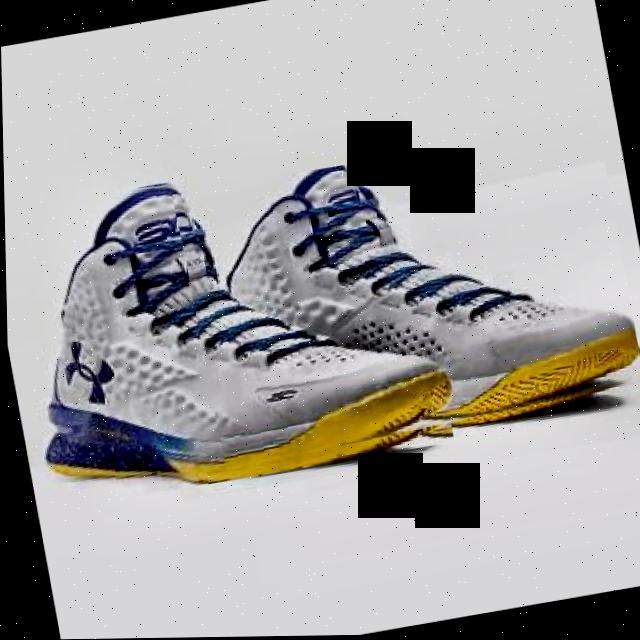shoe: (3, 141, 453, 512), (170, 123, 640, 472)
